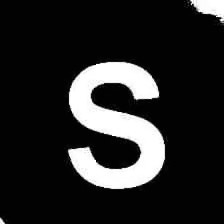LTR_S: (60, 55, 169, 194)
